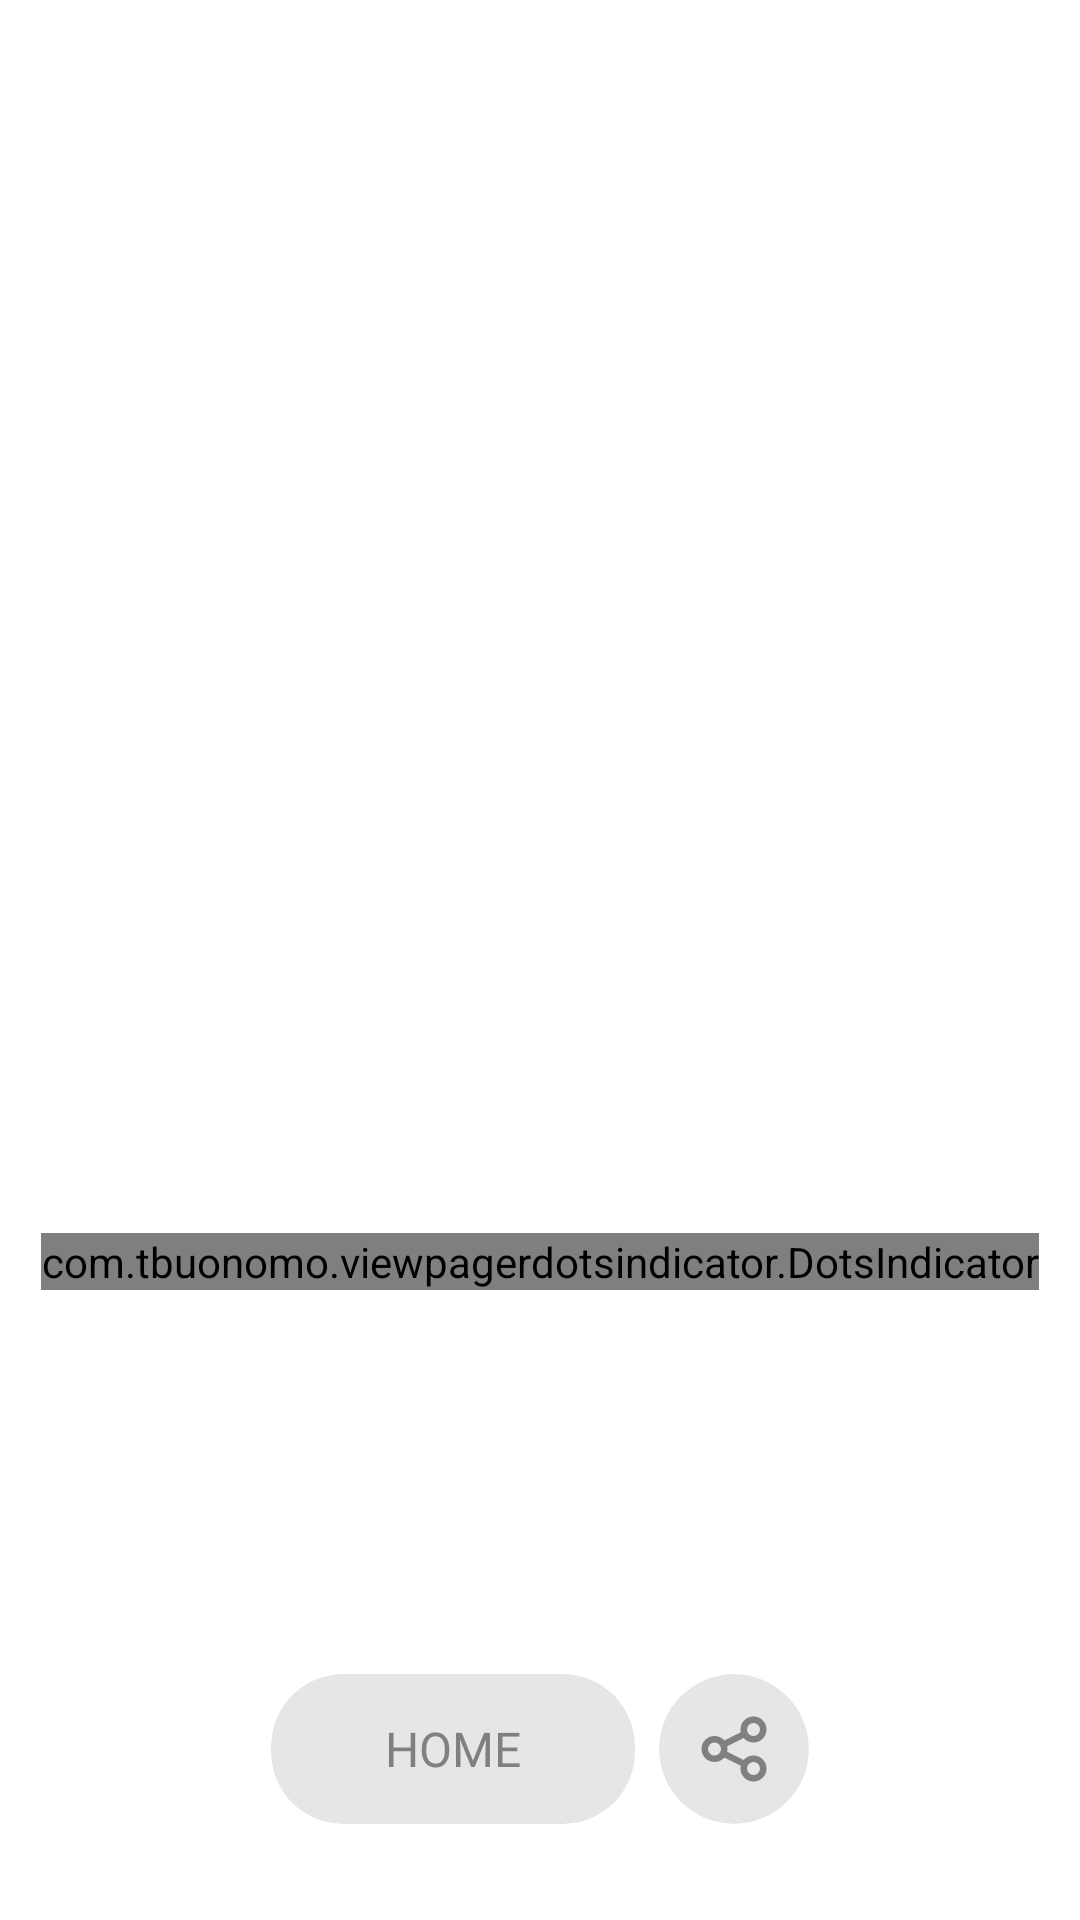

Named icons in this screenshot (1080 × 1920) and their bounding boxes, rect(x1, y1, x2, y2):
share: rect(701, 1716, 767, 1782)
